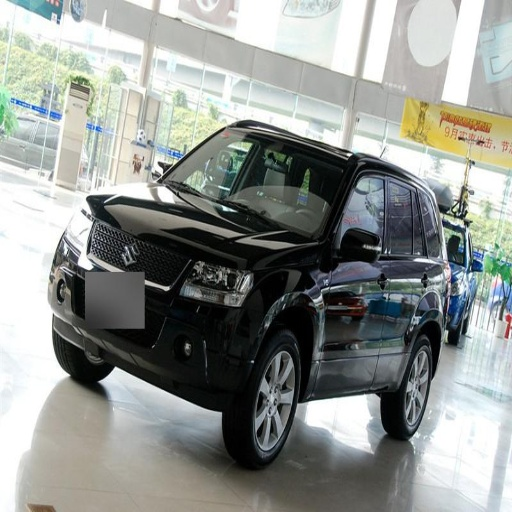front_bumper: (49, 242, 248, 394)
front_glass: (160, 129, 349, 239)
front_left_door: (319, 164, 386, 379)
front_right_light: (92, 225, 137, 267)
